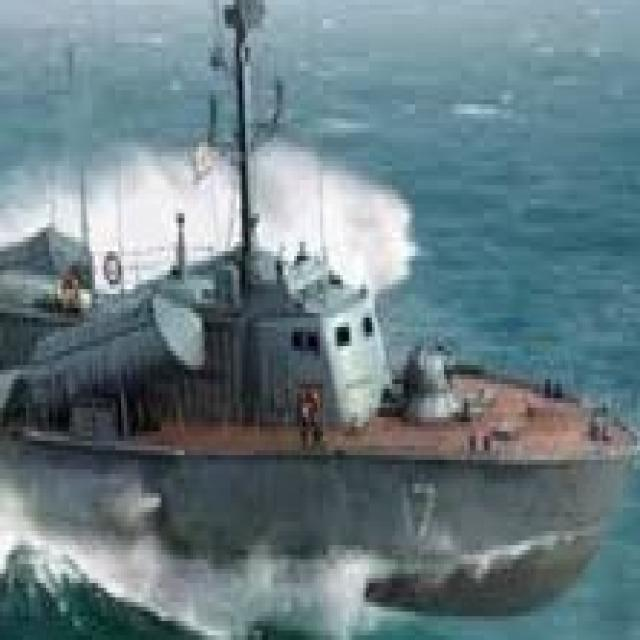navalvessels: (23, 35, 620, 599)
